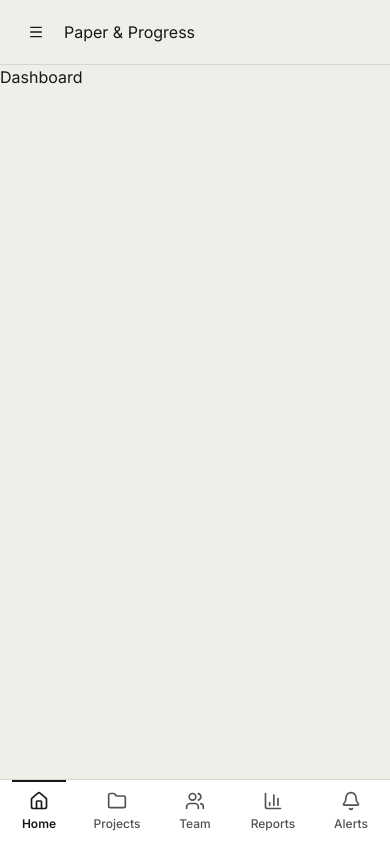
Test case: AppShell › shows the sidebar header and footer in the sidebar and in the drawer
The width and height of the screenshot is (390, 844).
Click the button named "Open menu": {"x": 36, "y": 32} [16,12,56,52]
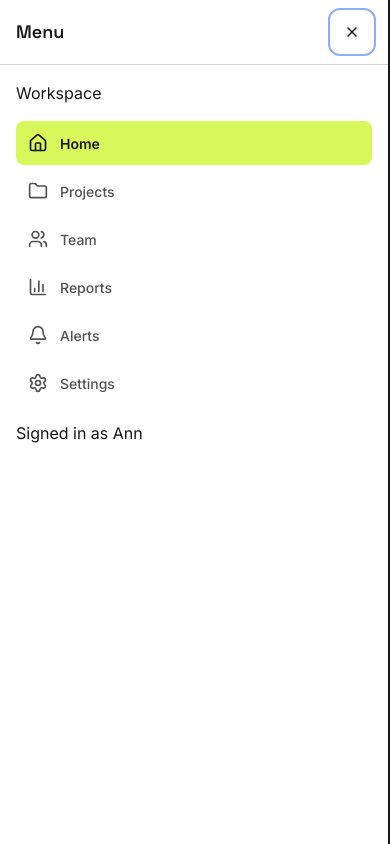
expect the text "Workspace" is shown 2 times: met
expect the text "Signed in as Ann" is shown 2 times: met
